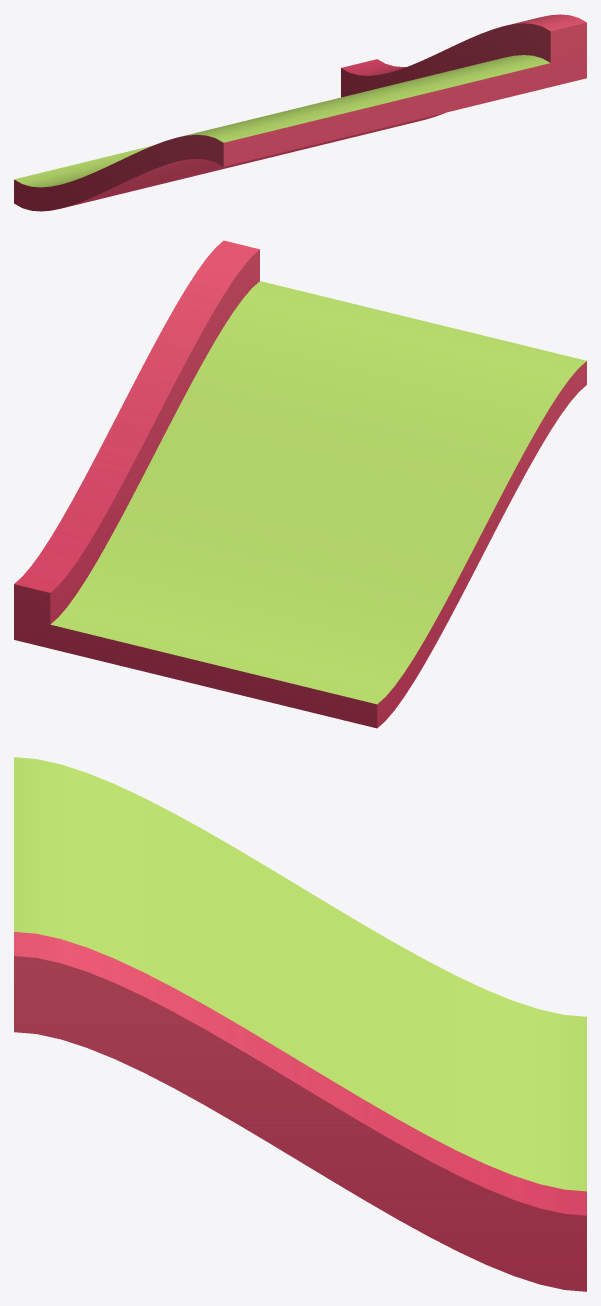
File: ramp-side.gltf
3 renders of one model, top to bottom at view 1: azimuth 30°, elevation 25°; view 2: azimuth 150°, elevation 25°; view 3: azimuth 270°, elevation 25°, orthographic. The views are drawn at different scales.
Visible parts, largest first — view 1: ramp-side; view 2: ramp-side; view 3: ramp-side.
Part boxes in pixels (left/top/right/bottom): ramp-side: left=14, top=14, right=586, bottom=211; ramp-side: left=14, top=240, right=586, bottom=728; ramp-side: left=14, top=757, right=586, bottom=1291.
Bounding box in the file's own units: 0.9999 × 0.6467 × 0.9999.
1 material, 1 textured.
